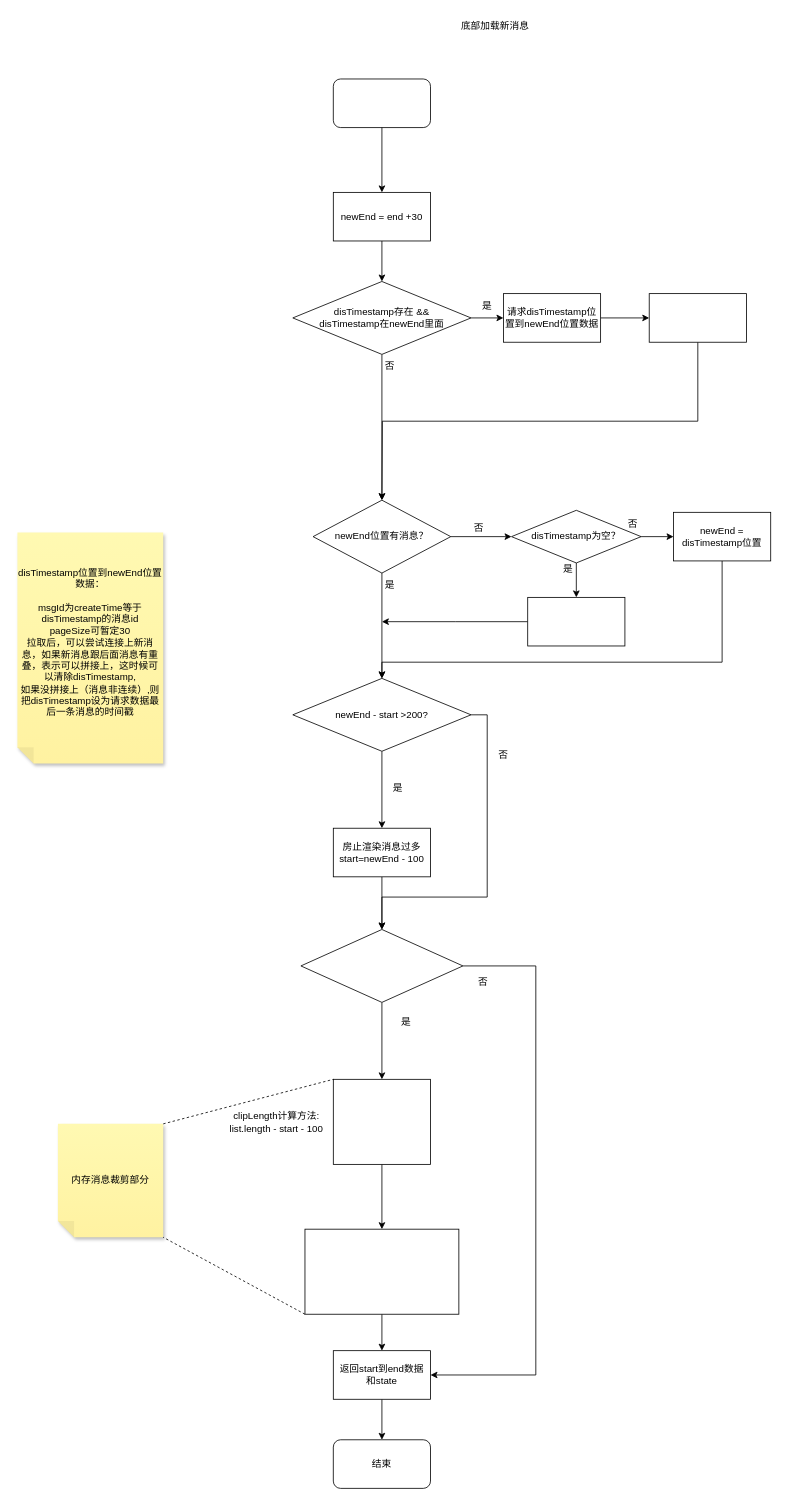
Image size: 785x1503. Some labels were removed from this diagram. Here are the shapes that lost their labels. From the top down, the centre of each, then its label:
pixel 382 103: 开始
pixel 697 317: 拼接数据 更新disTimestamp
pixel 576 621: newEnd = list.length
pixel 381 965: list.length - start > 100 ?
pixel 382 1121: 裁剪start前100条之前的消息 裁剪长度记为clipLength
pixel 381 1271: 修正start和end start = start - clipLength end = end - clipLength
